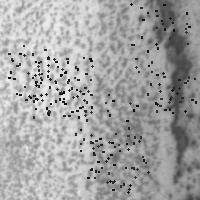pitted_surface: (1, 1, 159, 198), (155, 21, 195, 187), (30, 56, 90, 115), (87, 133, 147, 191), (32, 58, 91, 116), (75, 94, 133, 150), (8, 45, 67, 100), (135, 58, 195, 112), (130, 0, 188, 50)
